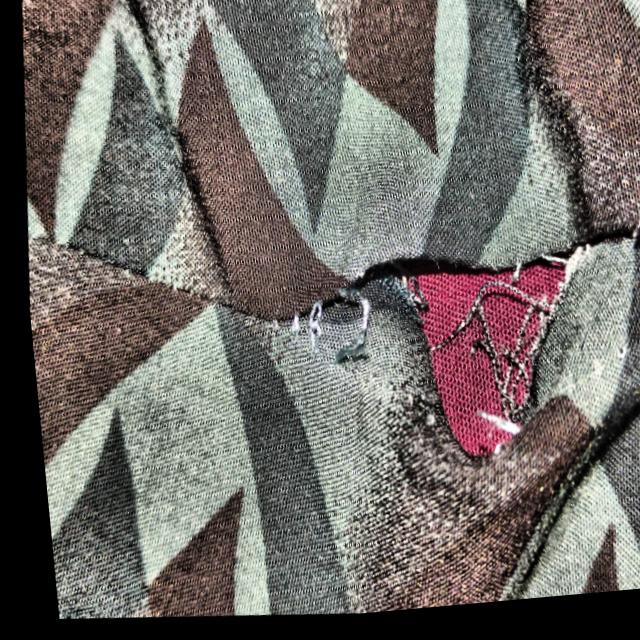seam: (247, 214, 636, 508)
